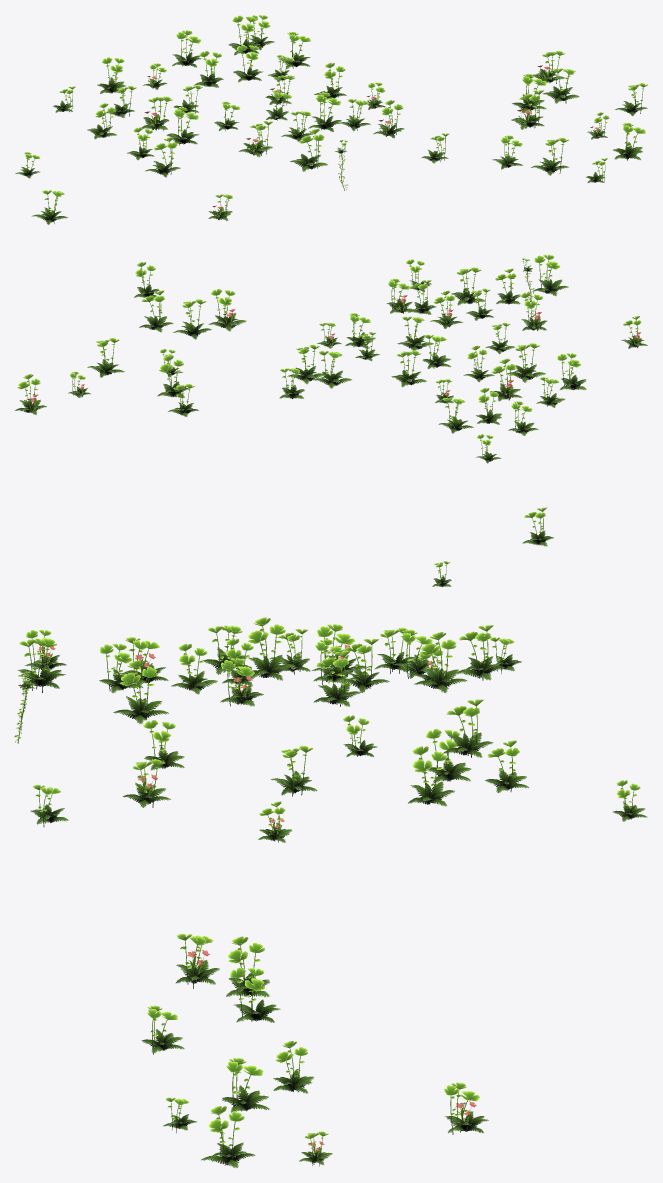
Rendered from Harbour_Greenery.glb.
The picture shows the model from 3 angles, top to bottom: view 1: azimuth 30°, elevation 25°; view 2: azimuth 150°, elevation 25°; view 3: azimuth 270°, elevation 25°; orthographic projection. The views are drawn at different scales.
Parts seen in each view (by area): view 1: Patch_20, Patch_51, Patch_36, Patch_32, Patch_41, Patch_15, Patch_02, Patch_31, Patch_00, Patch_10, Patch_08, Patch_01 (+20 smaller); view 2: Patch_20, Patch_08, Patch_31, Patch_00, Patch_36, Patch_47, Patch_28, Patch_02, Patch_01, Patch_48, Patch_05, Patch_41 (+3 smaller); view 3: Patch_51, Patch_36, Patch_32, Patch_31, Patch_41, Patch_05, Patch_47, Patch_02, Patch_01, Patch_10, Patch_08, Patch_48 (+14 smaller).
Boxes of the visible parts, x1,y1,x2,y2 form: Patch_20: (289,128,327,171); Patch_51: (308,92,341,131); Patch_36: (166,107,199,145); Patch_32: (612,122,645,160); Patch_41: (172,30,201,67); Patch_15: (97,57,126,93); Patch_02: (228,15,260,55); Patch_31: (530,137,569,175); Patch_00: (145,137,180,177); Patch_10: (233,45,263,82); Patch_08: (511,90,544,129); Patch_01: (512,73,546,113); Patch_20: (533,254,568,296); Patch_08: (208,289,246,331); Patch_31: (157,355,189,398); Patch_00: (557,353,586,390); Patch_36: (507,343,545,382); Patch_47: (139,290,173,332); Patch_28: (490,358,522,401); Patch_02: (313,351,351,388); Patch_01: (173,299,212,339); Patch_48: (14,374,47,414); Patch_05: (287,344,324,384); Patch_41: (391,350,427,387); Patch_51: (113,660,168,724); Patch_36: (248,617,294,680); Patch_32: (201,1106,255,1168); Patch_31: (221,1057,269,1113); Patch_41: (414,632,467,693); Patch_05: (408,746,454,806); Patch_47: (229,967,280,1022); Patch_02: (444,699,493,757); Patch_01: (226,936,269,997); Patch_10: (313,651,360,706); Patch_08: (175,933,219,988); Patch_48: (444,1082,488,1134).
Size of the model in its own units: 28.47 by 8.6 by 19.26.
5 materials, 4 textured.
